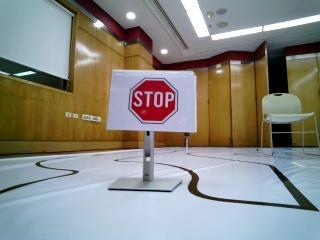stop: (112, 70, 190, 131)
